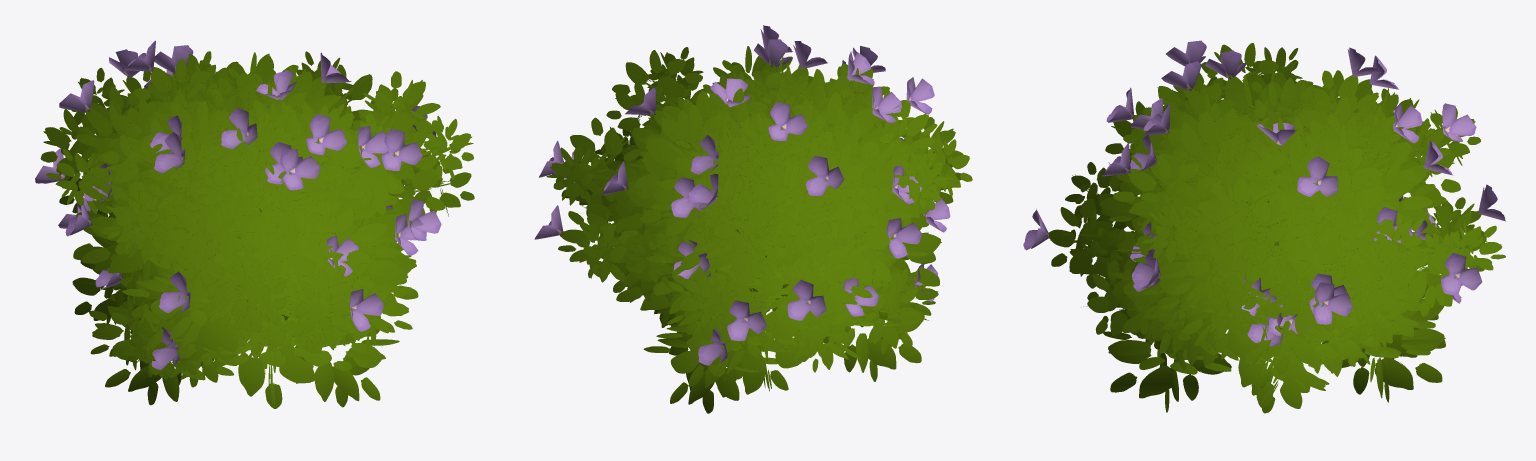
Rendered from Bush_Common_Flowers.gltf.
3 views of the same model, side by side, from view 1: azimuth 30°, elevation 25°; view 2: azimuth 150°, elevation 25°; view 3: azimuth 270°, elevation 25° (orthographic). The views are drawn at different scales.
Visible parts, largest first — view 1: Bush_Common_Flowers; view 2: Bush_Common_Flowers; view 3: Bush_Common_Flowers.
Boxes of the visible parts, x1,y1,x2,y2 form: Bush_Common_Flowers: (35,40,474,408); Bush_Common_Flowers: (534,25,972,413); Bush_Common_Flowers: (1023,40,1505,413).
Bounding box in the file's own units: 1.91 × 1.58 × 1.97.
2 materials, 2 textured.
